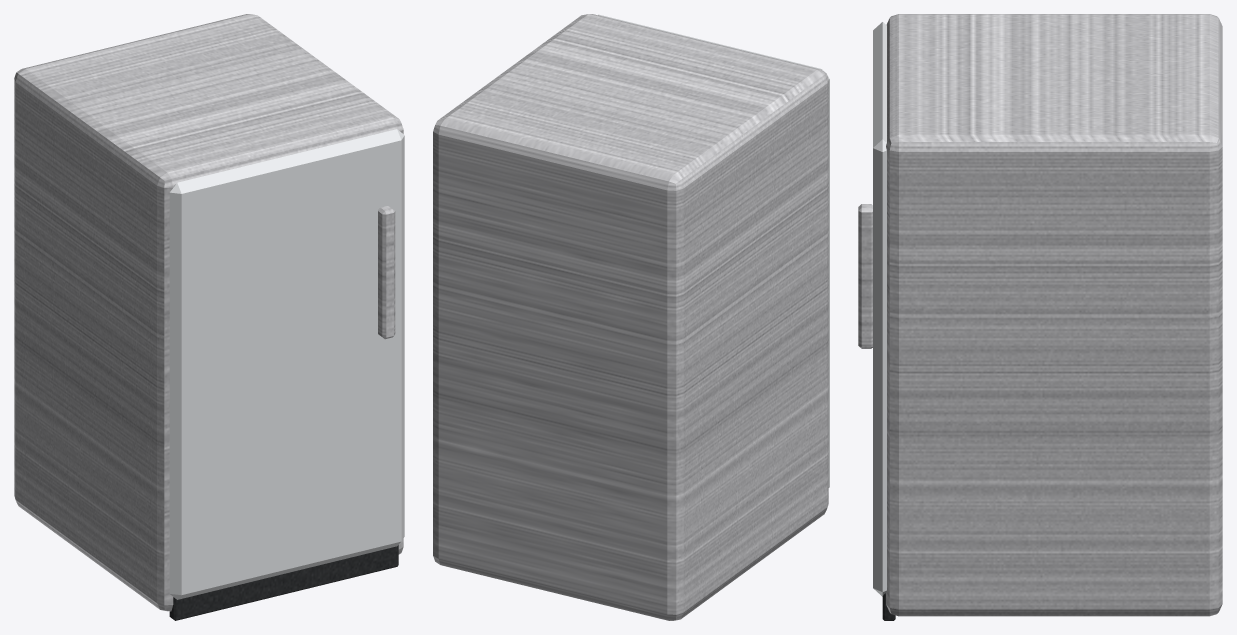
The model's file is 08_Frigobar_Oficina.obj.
The picture shows the model from 3 angles, left to right: view 1: azimuth 30°, elevation 25°; view 2: azimuth 150°, elevation 25°; view 3: azimuth 270°, elevation 25°; orthographic projection. The views are drawn at different scales.
Visible parts, largest first — view 1: 08_Frigobar_Oficina; view 2: 08_Frigobar_Oficina; view 3: 08_Frigobar_Oficina.
Boxes of the visible parts, x1=… form: 08_Frigobar_Oficina: x1=14, y1=14, x2=404, y2=620; 08_Frigobar_Oficina: x1=433, y1=14, x2=829, y2=620; 08_Frigobar_Oficina: x1=858, y1=14, x2=1222, y2=620.
Bounding box in the file's own units: 0.48 × 0.83 × 0.5625.
